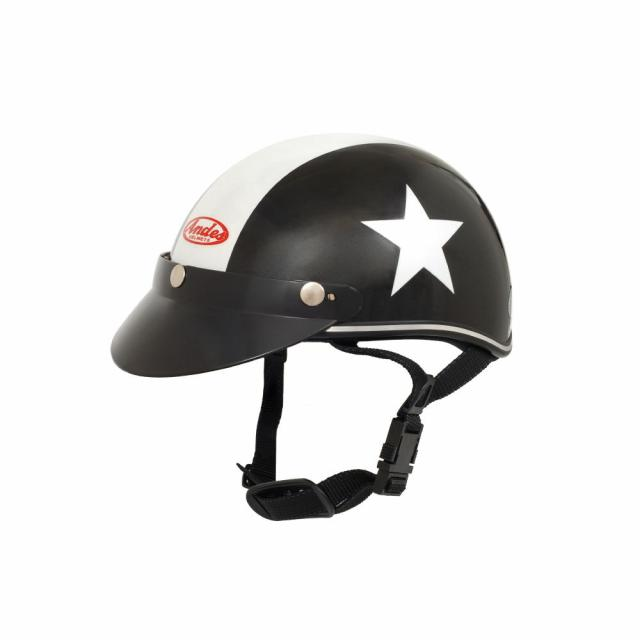Helmet: (107, 128, 519, 524)
